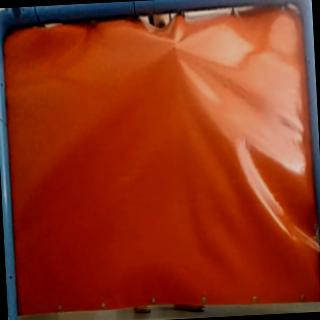Hit-hRxx: (166, 40, 186, 54)
